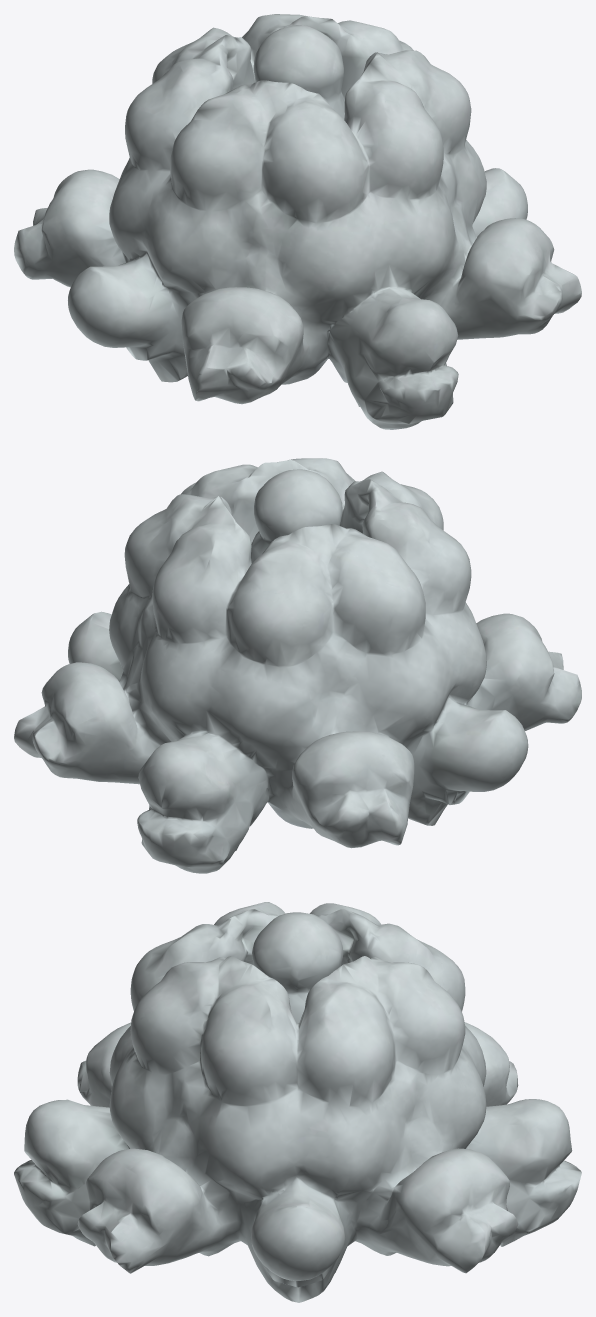
Rendered from env-cloud1.glb.
3 views of the same model, one above another, from view 1: azimuth 30°, elevation 25°; view 2: azimuth 150°, elevation 25°; view 3: azimuth 270°, elevation 25° (orthographic).
Visible parts, largest first — view 1: Meshy_AI_Create_sky_cloud_0909082130_texture; view 2: Meshy_AI_Create_sky_cloud_0909082130_texture; view 3: Meshy_AI_Create_sky_cloud_0909082130_texture.
Boxes of the visible parts, x1,y1,x2,y2 form: Meshy_AI_Create_sky_cloud_0909082130_texture: (14, 14, 581, 429); Meshy_AI_Create_sky_cloud_0909082130_texture: (14, 458, 581, 873); Meshy_AI_Create_sky_cloud_0909082130_texture: (14, 902, 581, 1302).
Bounding box in the file's own units: 1.74 × 1.21 × 1.89.
1 material, 1 textured.
